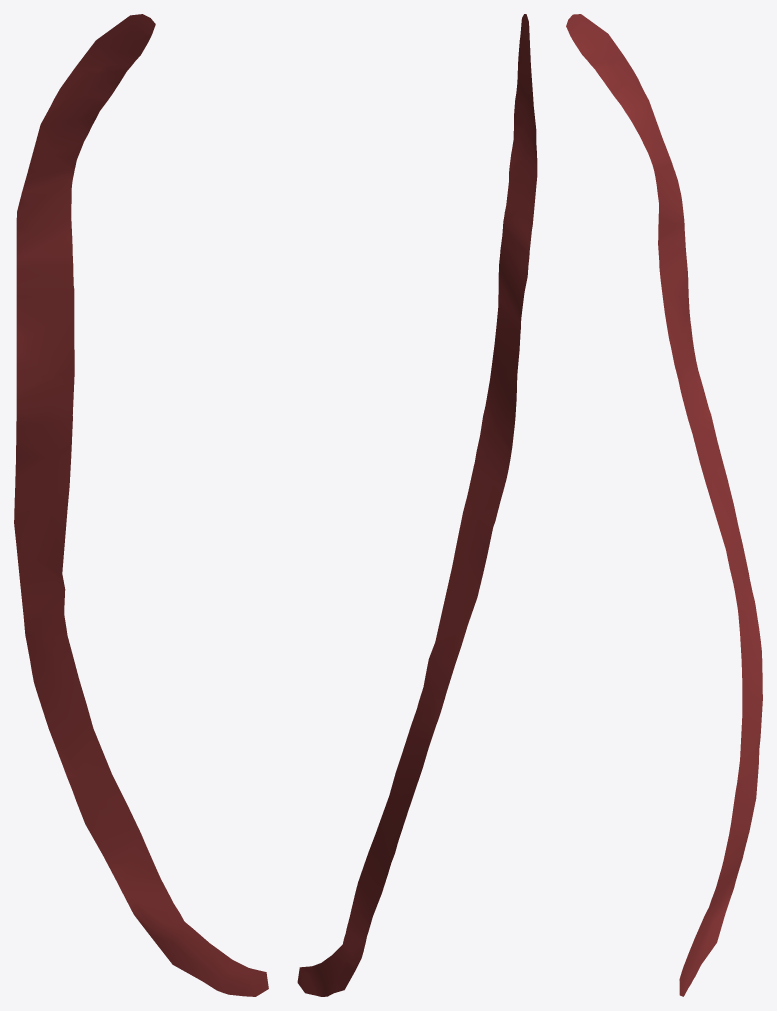
The model's file is serratus-anterior-muscle-ol.glb.
3 views of the same model, side by side, from view 1: azimuth 30°, elevation 25°; view 2: azimuth 150°, elevation 25°; view 3: azimuth 270°, elevation 25° (orthographic). The views are drawn at different scales.
Parts seen in each view (by area): view 1: Serratus anterior muscle.ol; view 2: Serratus anterior muscle.ol; view 3: Serratus anterior muscle.ol.
Part boxes in pixels (x1,y1,x2,y2): Serratus anterior muscle.ol: (14, 14, 268, 996); Serratus anterior muscle.ol: (297, 14, 537, 996); Serratus anterior muscle.ol: (566, 14, 762, 996).
Size of the model in its own units: 0.0331 by 0.1346 by 0.0264.
